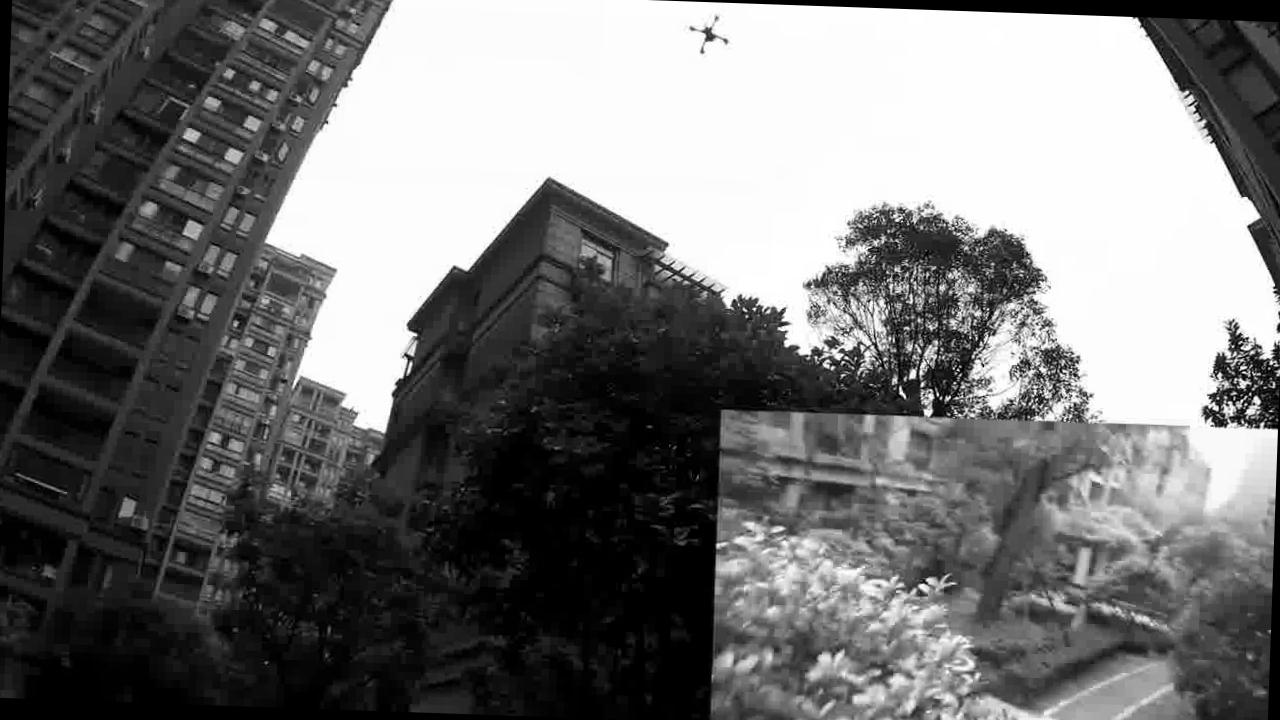drone: (676, 13, 728, 65)
